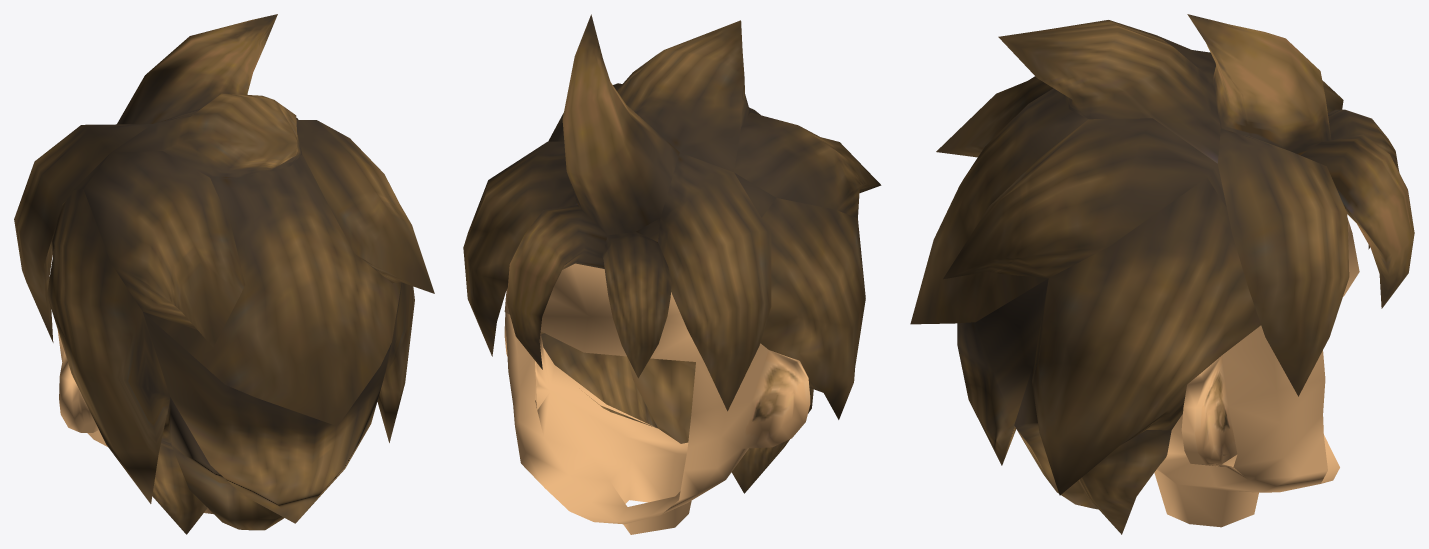
File: batch_0005.obj
3 renders of one model, left to right at view 1: azimuth 30°, elevation 25°; view 2: azimuth 150°, elevation 25°; view 3: azimuth 270°, elevation 25°, orthographic. The views are drawn at different scales.
Visible parts, largest first — view 1: batch_0005; view 2: batch_0005; view 3: batch_0005.
Part boxes in pixels (box(x1,y1,x2,y2)): batch_0005: box(14, 14, 434, 534); batch_0005: box(463, 14, 881, 534); batch_0005: box(910, 14, 1414, 534).
Bounding box in the file's own units: 41.56 × 58.73 × 49.86.
